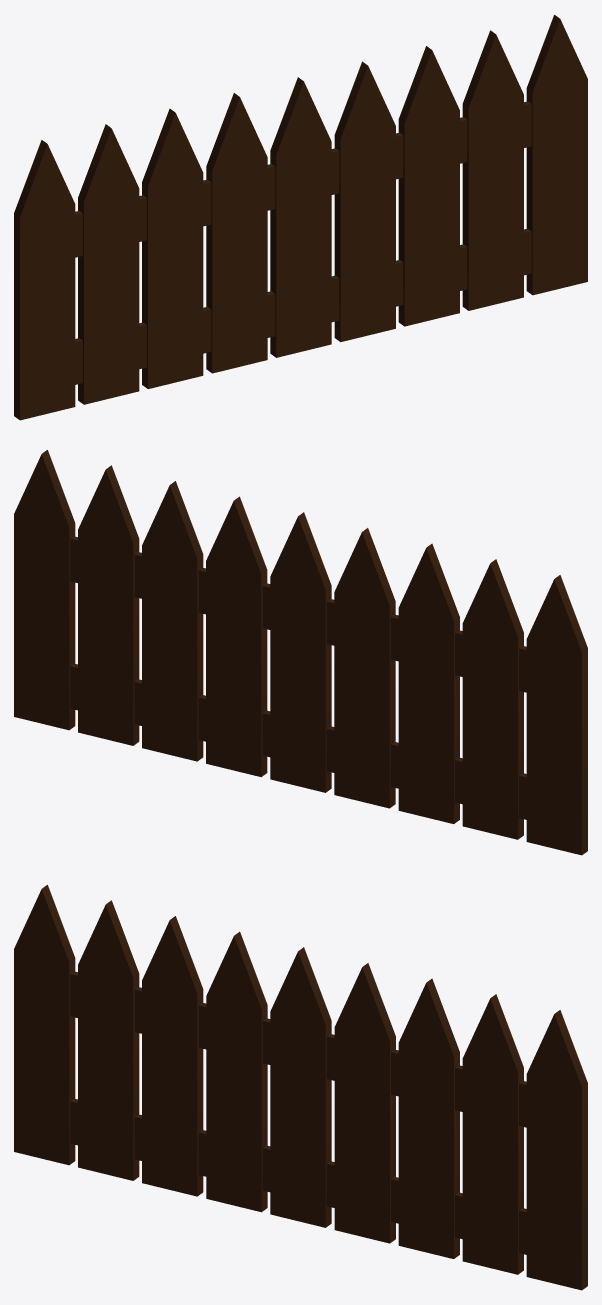
File: Prop_Fence.FBX
3 renders of one model, top to bottom at view 1: azimuth 30°, elevation 25°; view 2: azimuth 150°, elevation 25°; view 3: azimuth 330°, elevation 25°, orthographic.
Parts seen in each view (by area): view 1: Prop_Fence; view 2: Prop_Fence; view 3: Prop_Fence.
Part boxes in pixels (bbox=[...]): Prop_Fence: bbox=[14, 15, 587, 420]; Prop_Fence: bbox=[14, 450, 587, 855]; Prop_Fence: bbox=[14, 885, 587, 1290].
Size of the model in its own units: 106 by 48.26 by 1.95.
